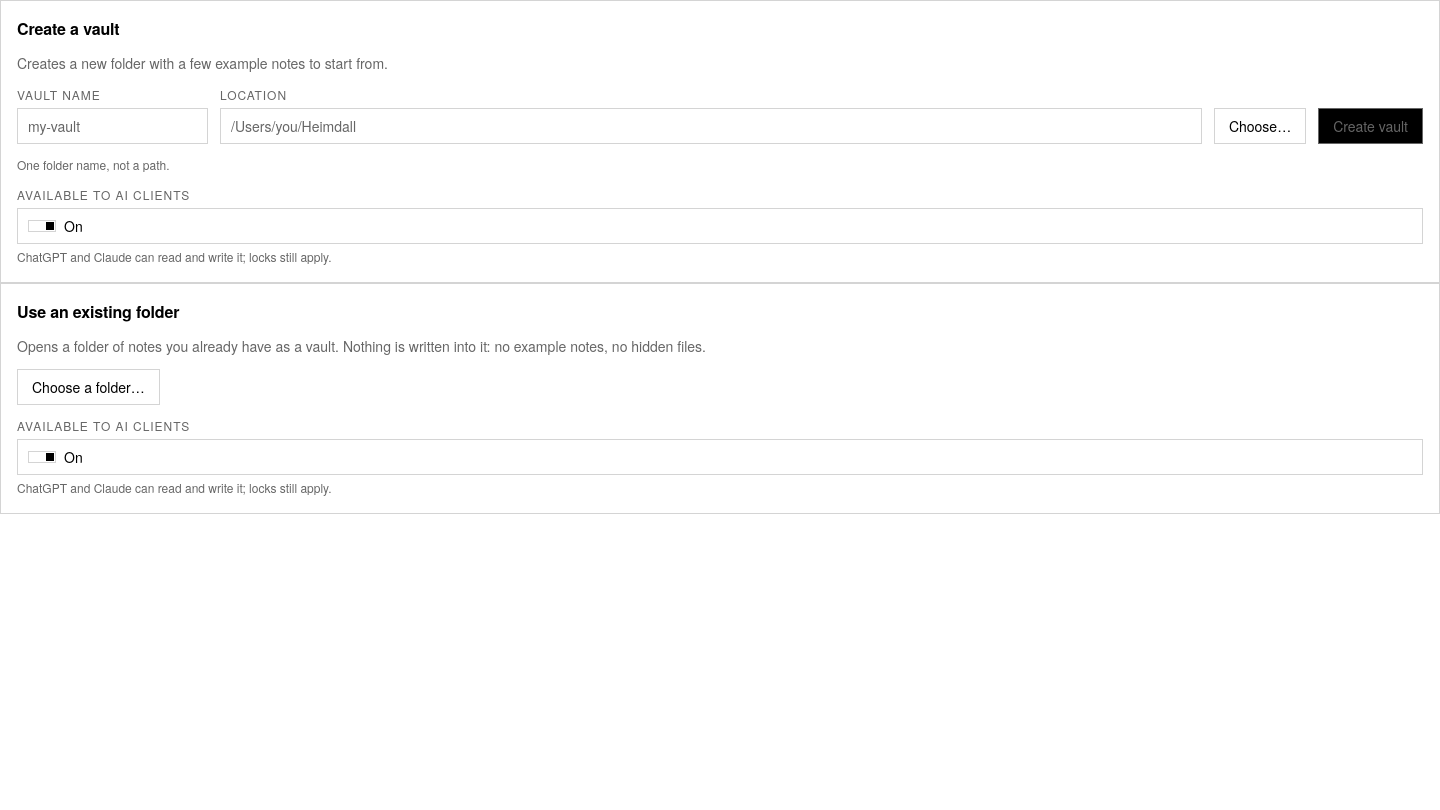
Scenario: Setup › registers an existing folder by its parent and name, writing nothing into it
Click the button "Choose a folder…" at (88, 387), box 17,369 -> 160,405
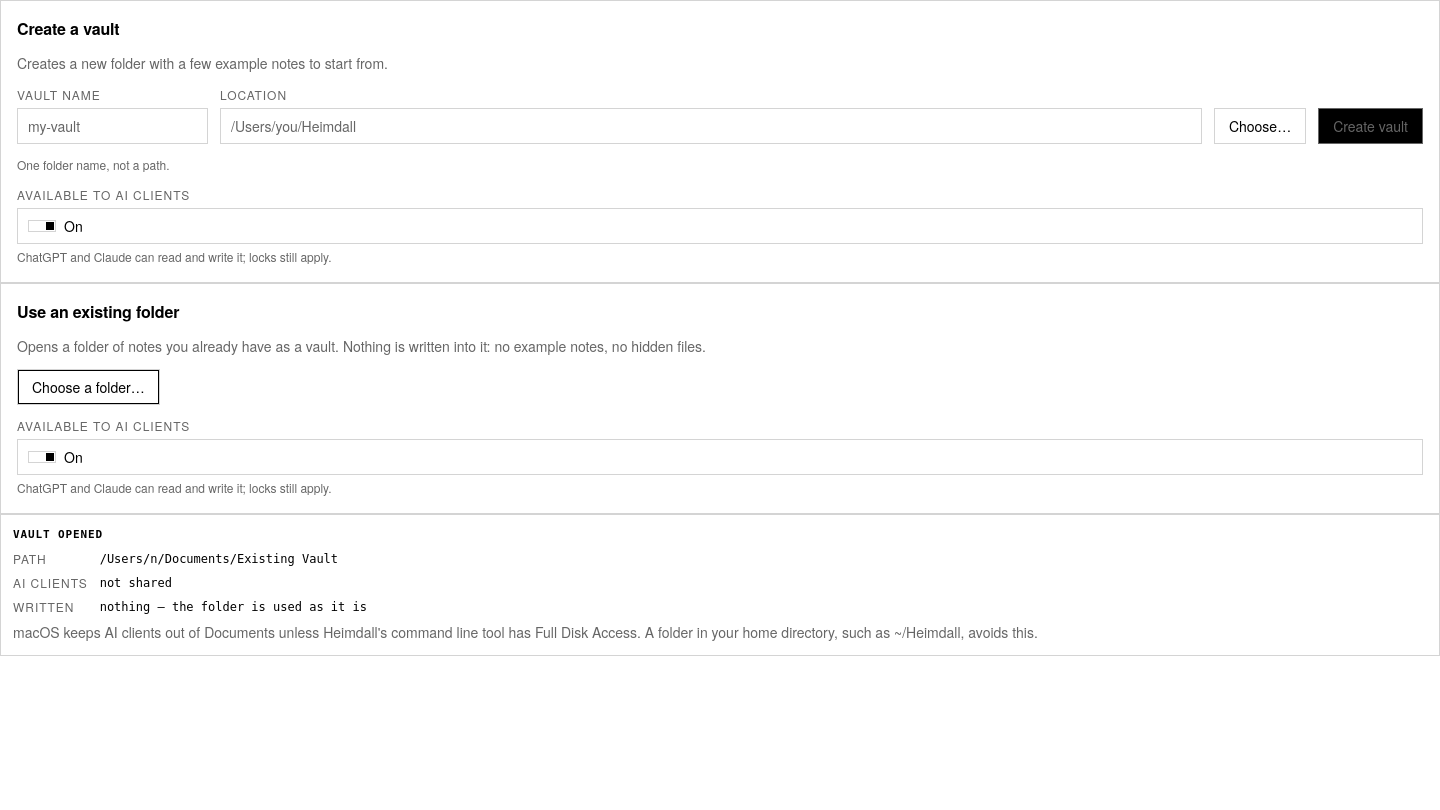
Expected: the text "Vault opened" is shown, 13,528 -> 103,541
Expected: the text "nothing — the folder is used as it is" is shown, 100,600 -> 367,614
